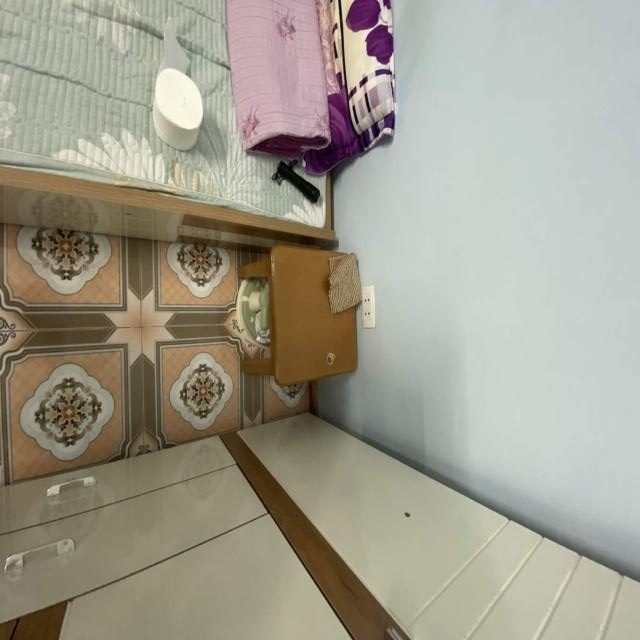outlet: (362, 284, 376, 328)
